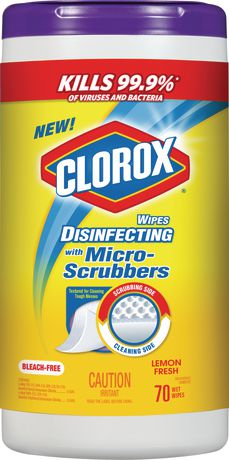Wipes: (2, 1, 228, 460)
